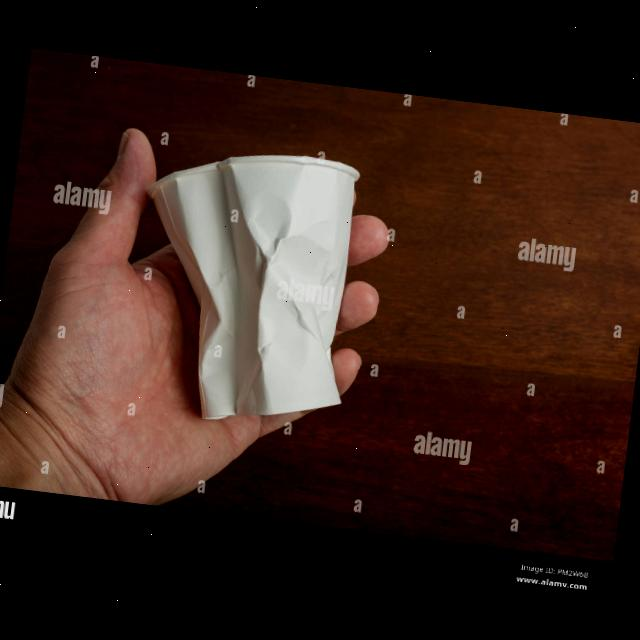trash: (120, 137, 372, 436)
